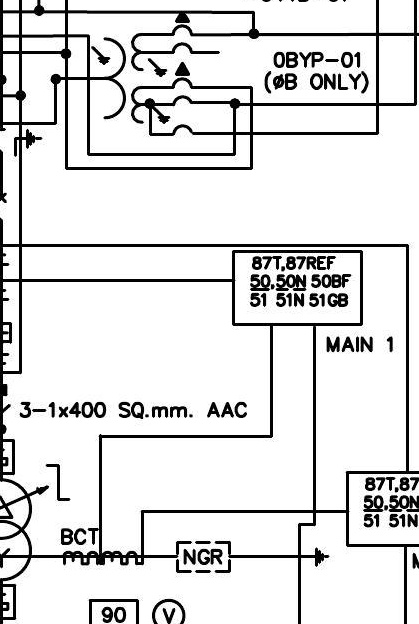115_vt_1p: (90, 11, 194, 125)
NGR_future: (175, 540, 330, 575)
